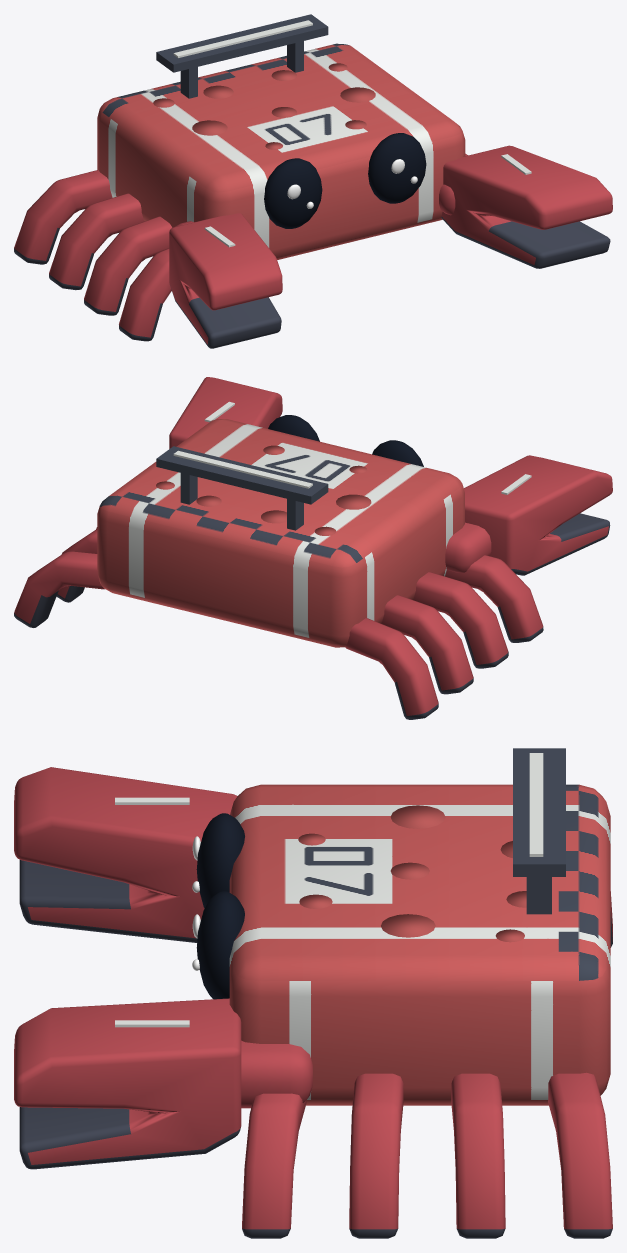
The model's file is RaceCarCrab.fbx.
3 views of the same model, one above another, from view 1: azimuth 30°, elevation 25°; view 2: azimuth 150°, elevation 25°; view 3: azimuth 270°, elevation 25° (orthographic). The views are drawn at different scales.
Parts seen in each view (by area): view 1: RaceCarCrab_Body, RaceCarCrab, RaceCarCrab_Claw_R, RaceCarCrab_Claw_L, RaceCarCrab_Eye_R, RaceCarCrab_Eye_L; view 2: RaceCarCrab_Body, RaceCarCrab, RaceCarCrab_Claw_L, RaceCarCrab_Claw_R, RaceCarCrab_Arm_L, RaceCarCrab_Eye_L, RaceCarCrab_Eye_R; view 3: RaceCarCrab_Body, RaceCarCrab, RaceCarCrab_Claw_R, RaceCarCrab_Claw_L, RaceCarCrab_Arm_R, RaceCarCrab_Eye_R, RaceCarCrab_Eye_L.
Part boxes in pixels (x1,y1,x2,y2): RaceCarCrab_Body: (97, 14, 465, 259); RaceCarCrab: (14, 63, 467, 341); RaceCarCrab_Claw_R: (441, 145, 612, 268); RaceCarCrab_Claw_L: (169, 213, 282, 348); RaceCarCrab_Eye_R: (368, 133, 426, 203); RaceCarCrab_Eye_L: (264, 158, 322, 228); RaceCarCrab_Body: (97, 419, 464, 647); RaceCarCrab: (14, 445, 543, 719); RaceCarCrab_Claw_L: (464, 455, 612, 575); RaceCarCrab_Claw_R: (169, 377, 282, 448); RaceCarCrab_Arm_L: (445, 522, 491, 572); RaceCarCrab_Eye_L: (372, 440, 423, 466); RaceCarCrab_Eye_R: (268, 415, 319, 441); RaceCarCrab_Body: (229, 748, 610, 1105); RaceCarCrab: (242, 805, 612, 1238); RaceCarCrab_Claw_R: (14, 998, 241, 1169); RaceCarCrab_Claw_L: (14, 767, 237, 942); RaceCarCrab_Arm_R: (241, 1040, 312, 1108); RaceCarCrab_Eye_R: (196, 891, 244, 999); RaceCarCrab_Eye_L: (196, 813, 244, 908).
Bounding box in the file's own units: 374 × 163 × 305.
2 materials, 2 textured.
